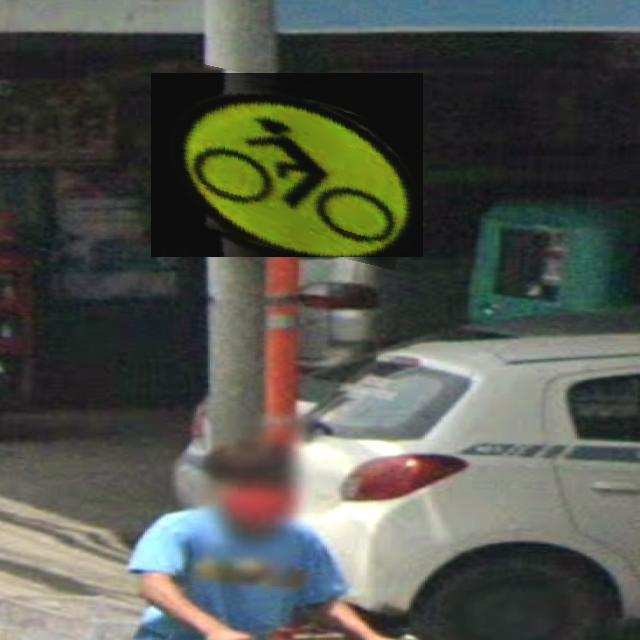bike lane: (151, 73, 423, 257)
